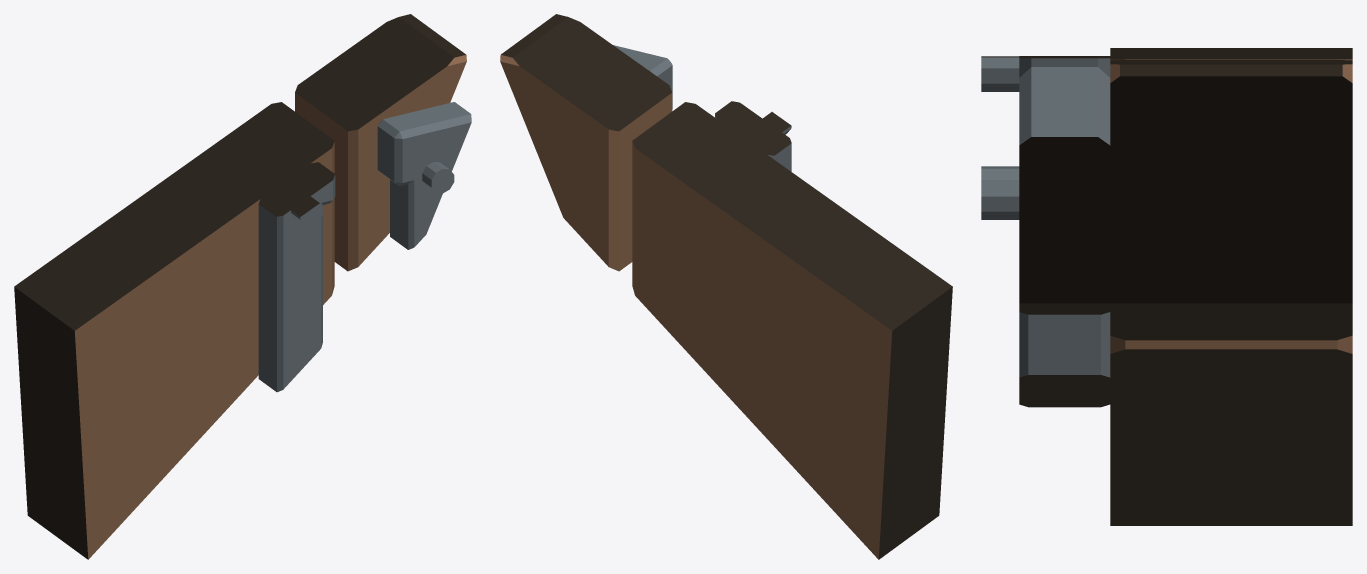
The model's file is SM_DoorShard_01_32.fbx.
3 renders of one model, left to right at view 1: azimuth 30°, elevation 25°; view 2: azimuth 150°, elevation 25°; view 3: azimuth 270°, elevation 25°, orthographic. The views are drawn at different scales.
Parts seen in each view (by area): view 1: SM_DoorShard_01_32; view 2: SM_DoorShard_01_32; view 3: SM_DoorShard_01_32.
Boxes of the visible parts, x1,y1,x2,y2 form: SM_DoorShard_01_32: (14, 14, 471, 559); SM_DoorShard_01_32: (500, 14, 952, 559); SM_DoorShard_01_32: (981, 48, 1352, 525).
Bounding box in the file's own units: 60.08 × 24.5 × 59.8.
